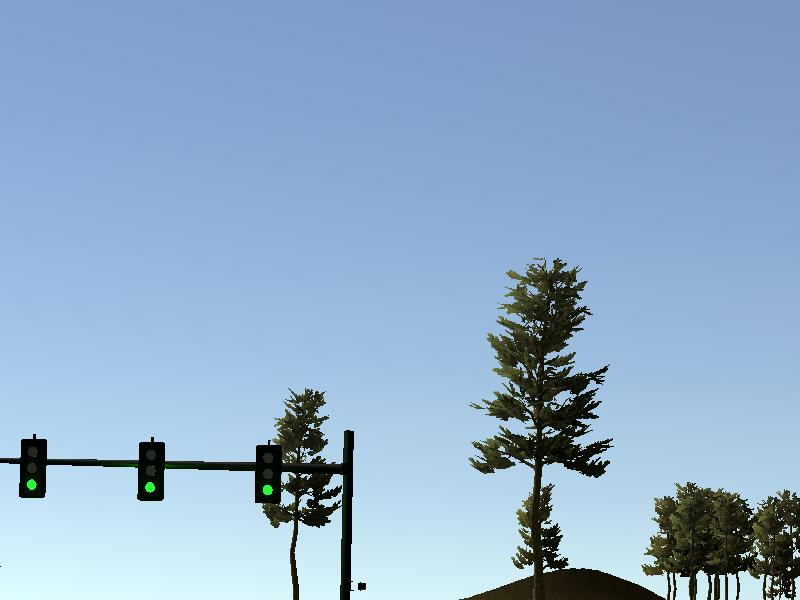green: (18, 437, 48, 499), (136, 441, 166, 503), (254, 443, 284, 505)
